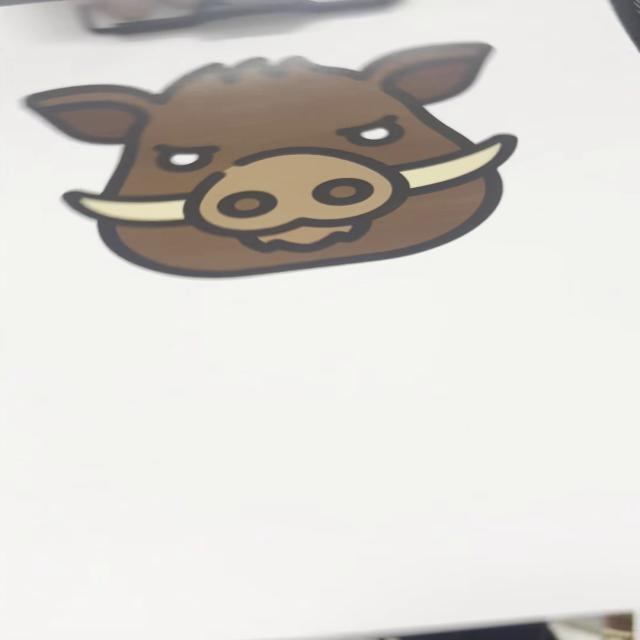animal: (29, 39, 540, 283)
